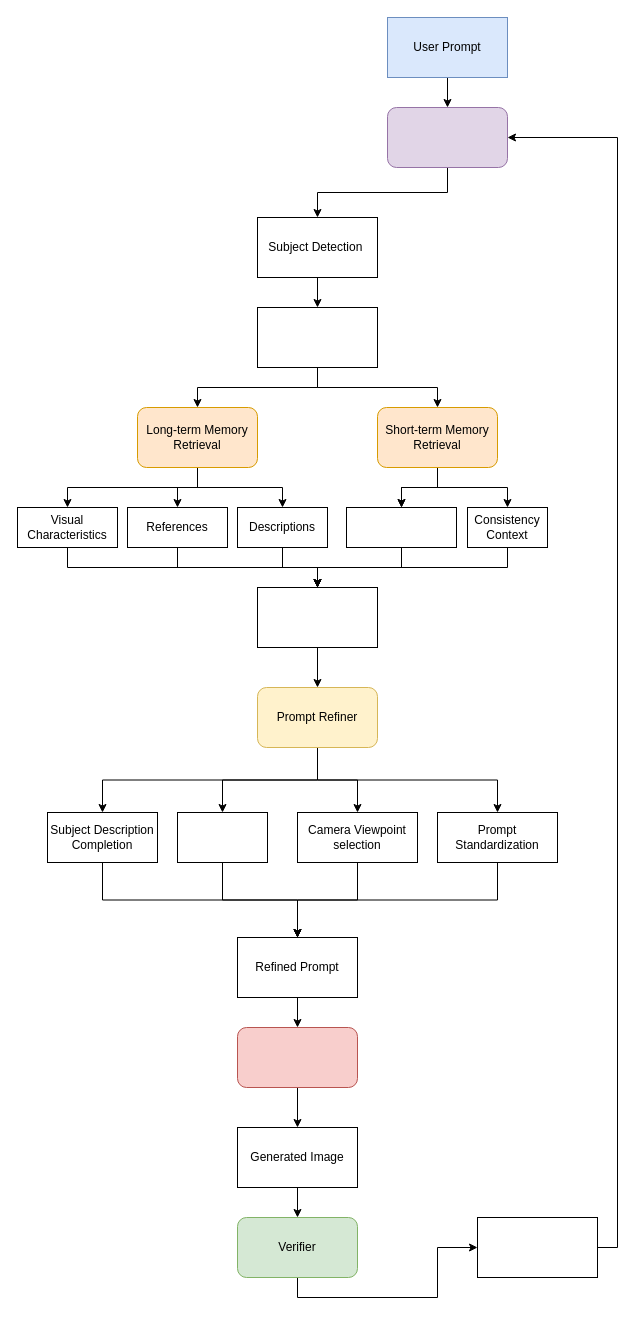
Some shapes in this 643 by 1323 pixel diagram are drawn without their labels. The centre of each missing label's shape, as x and y in pixels:
"Controller" goes at (447,137).
"Generator" goes at (297,1057).
"Matching: Distinguish between old and new subjects" goes at (317,337).
"Memory Update" goes at (537,1247).
"Merge Context" goes at (317,617).
"Recent Generation Results" goes at (401,527).
"Visual Detail Enhancement" goes at (222,837).
